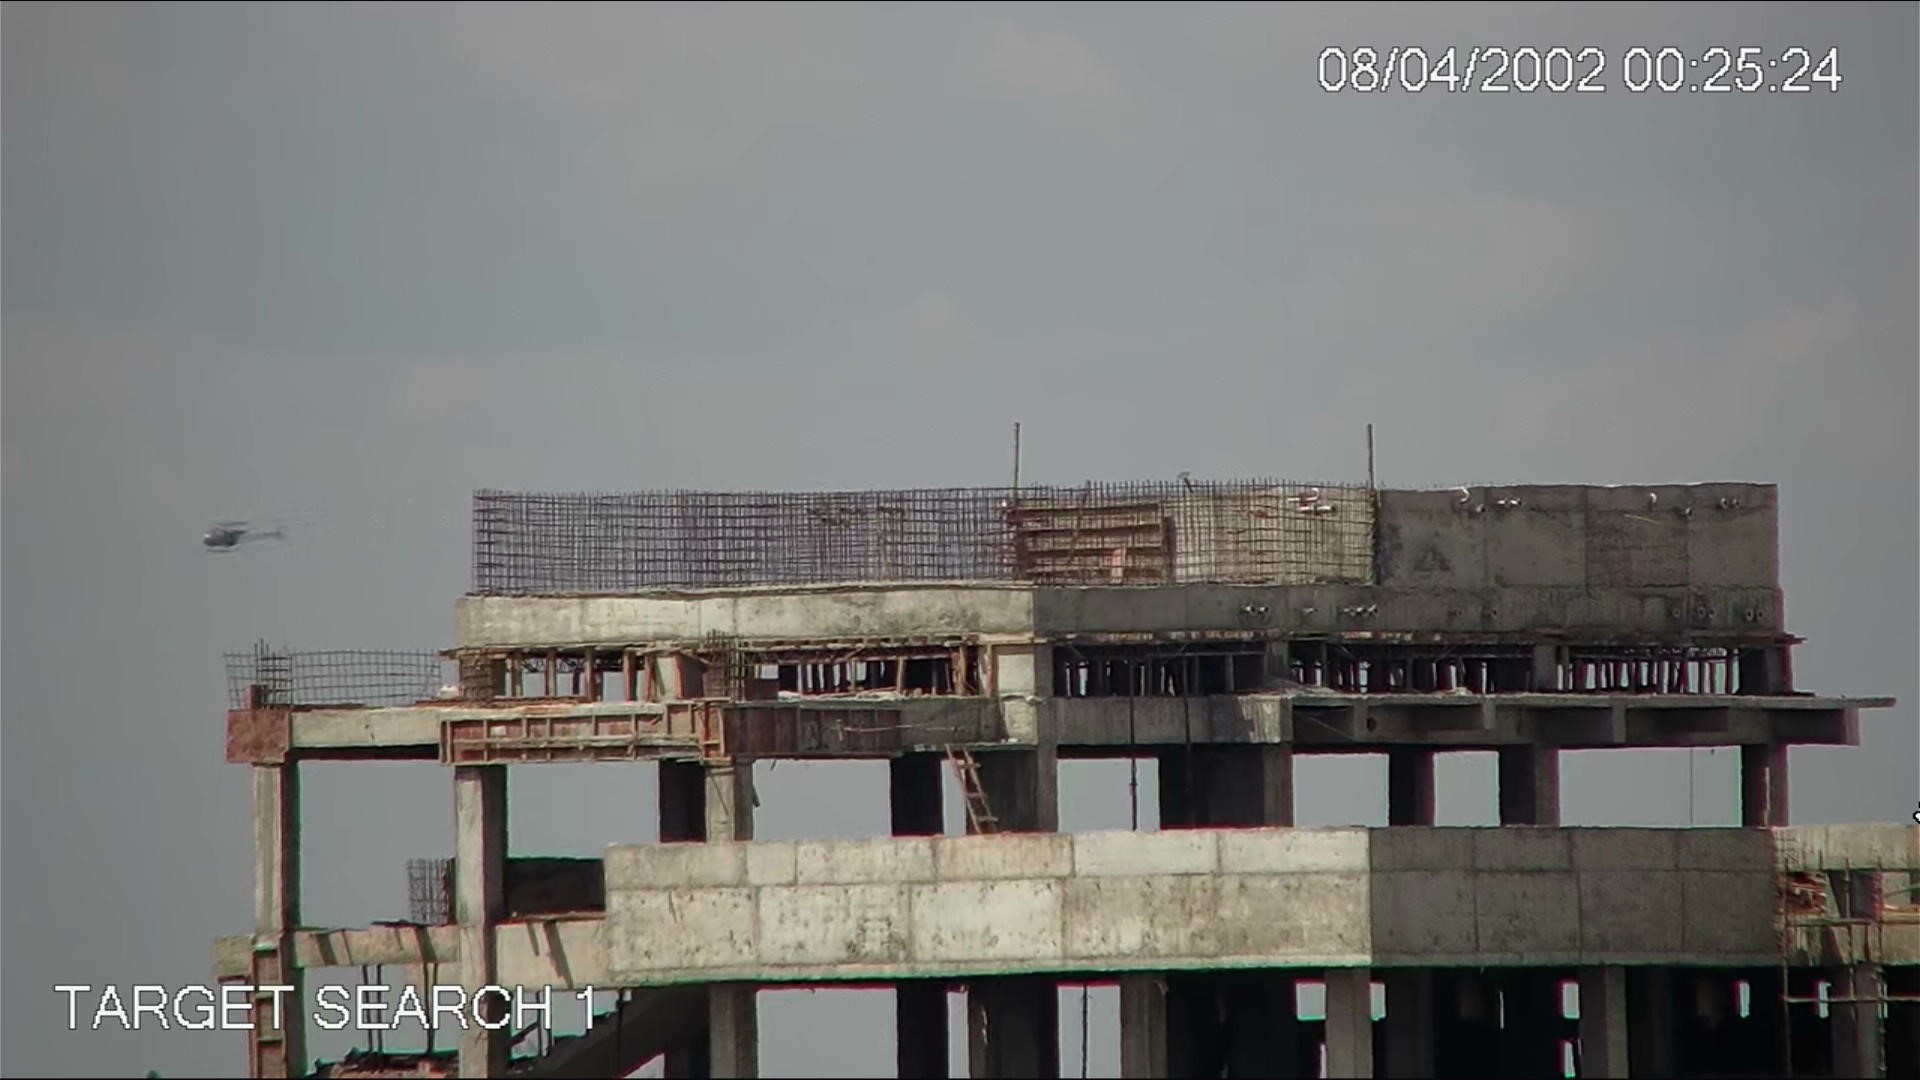SU_30: (195, 506, 301, 554)
